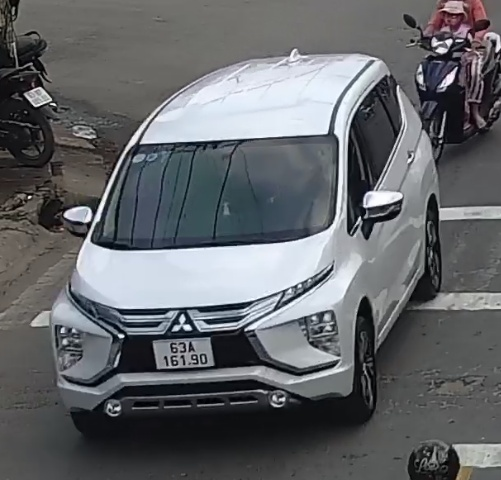vehicle plate: (146, 334, 220, 375)
